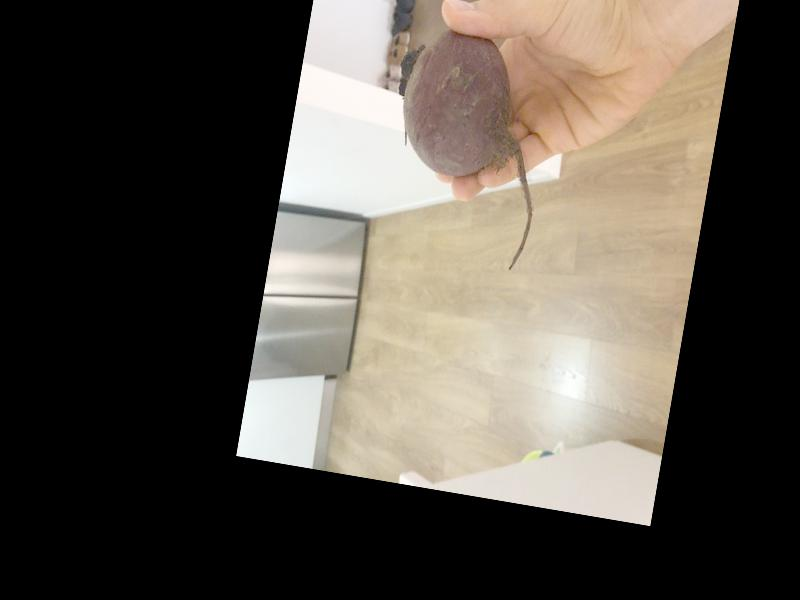Beet: (371, 23, 560, 272)
